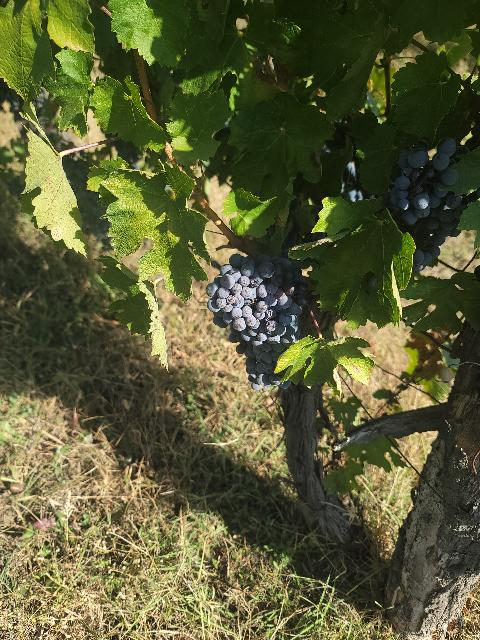grapes: (206, 254, 309, 391), (389, 139, 465, 272)
